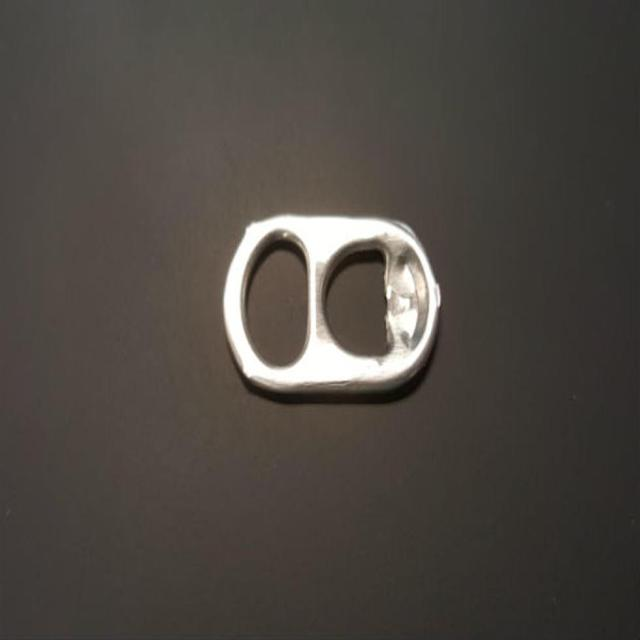pop tab: (223, 209, 440, 402)
